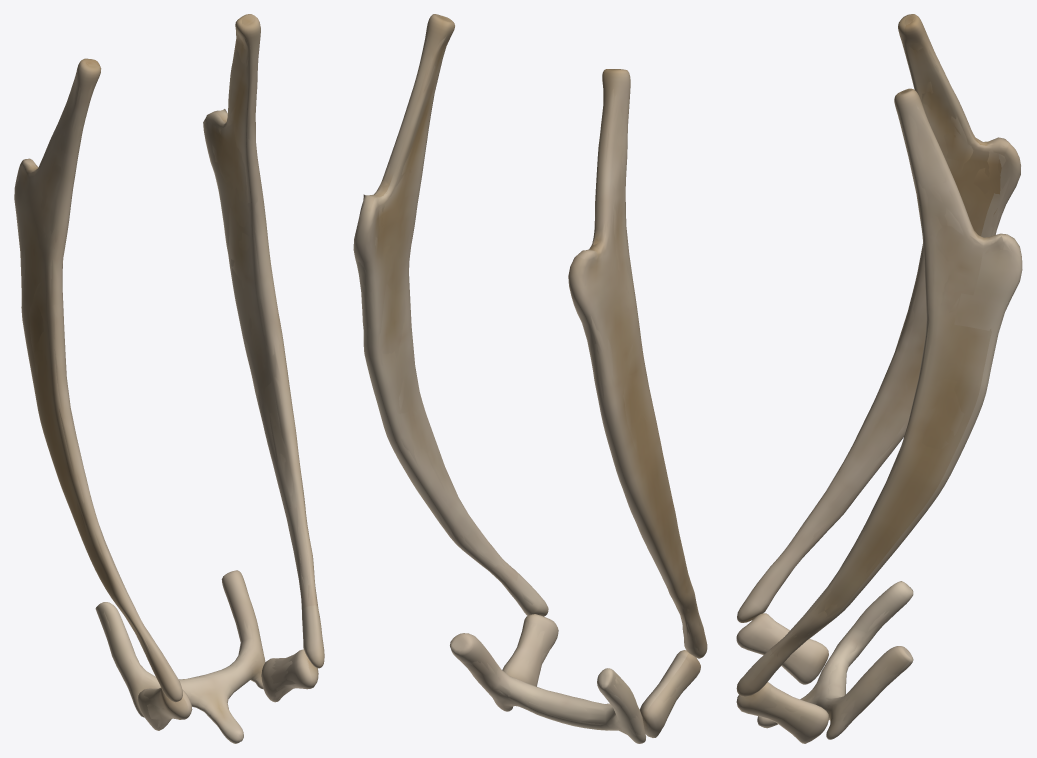
The model's file is Hyoid.fbx.
The picture shows the model from 3 angles, left to right: view 1: azimuth 30°, elevation 25°; view 2: azimuth 150°, elevation 25°; view 3: azimuth 270°, elevation 25°; orthographic projection. The views are drawn at different scales.
Visible parts, largest first — view 1: Hyoid, Hyoid low; view 2: Hyoid, Hyoid low; view 3: Hyoid, Hyoid low.
Part boxes in pixels (left/top/right/bottom): Hyoid: left=14, top=14, right=324, bottom=743; Hyoid low: left=16, top=16, right=318, bottom=740; Hyoid: left=353, top=14, right=707, bottom=743; Hyoid low: left=357, top=15, right=705, bottom=735; Hyoid: left=736, top=14, right=1022, bottom=743; Hyoid low: left=756, top=17, right=1012, bottom=734.
Bounding box in the file's own units: 9.49 × 26.03 × 9.93.
Materials: 1 (1 with a texture image).
